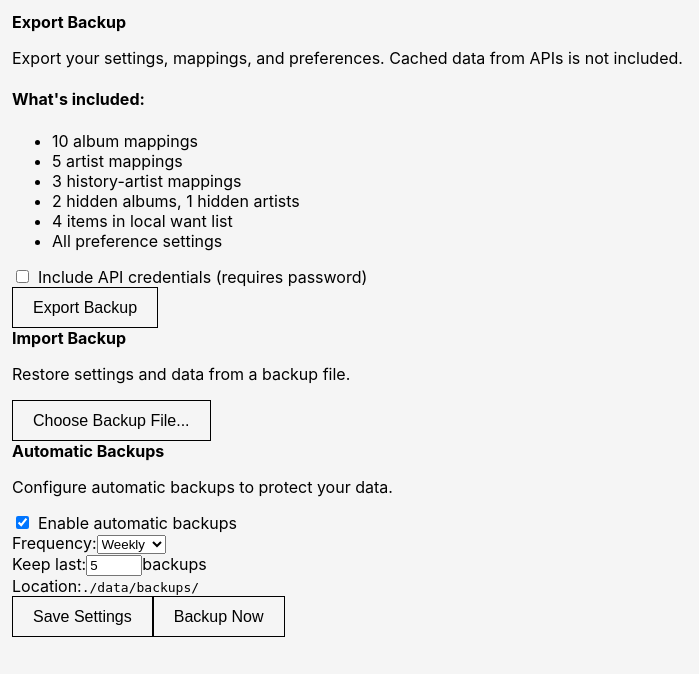
SettingsBackupSection › exports backup without credentials successfully
What coordinates should you click on to do the following:
click the button "Export Backup"
I would click on:
 (85, 307)
Its box is [12,286,158,328].
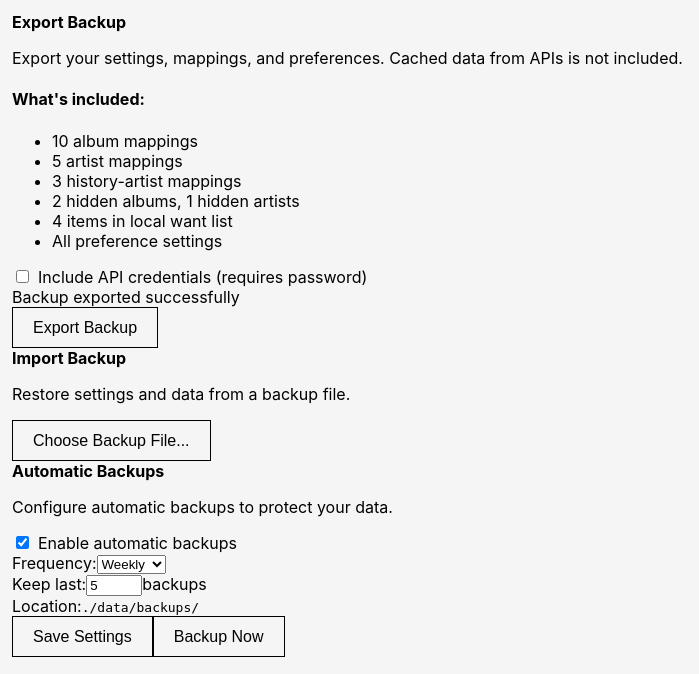
Check: the text "Backup exported successfully" is shown, box [12,286,240,306]
